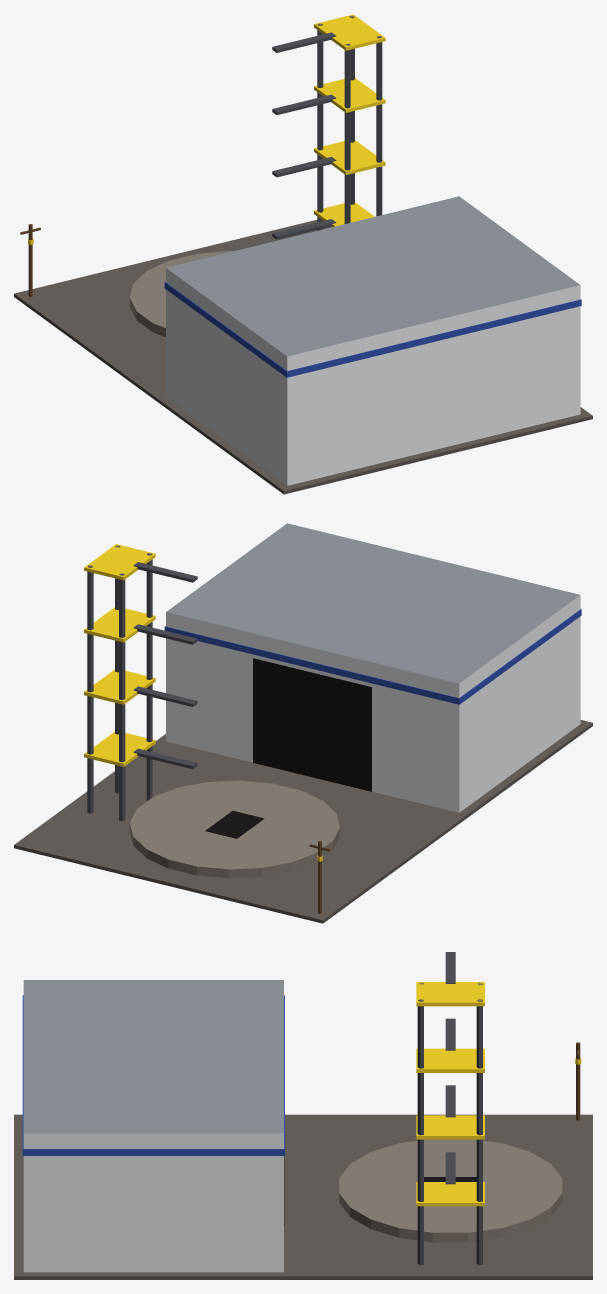
File: shipyard.glb
3 renders of one model, top to bottom at view 1: azimuth 30°, elevation 25°; view 2: azimuth 150°, elevation 25°; view 3: azimuth 270°, elevation 25°, orthographic. The views are drawn at different scales.
Visible parts, largest first — view 1: shipyard; view 2: shipyard; view 3: shipyard.
Boxes of the visible parts, x1,y1,x2,y2 form: shipyard: (14,14,592,494); shipyard: (14,523,592,923); shipyard: (14,952,592,1279).
Size of the model in its own units: 7.8 by 6.02 by 11.8.
